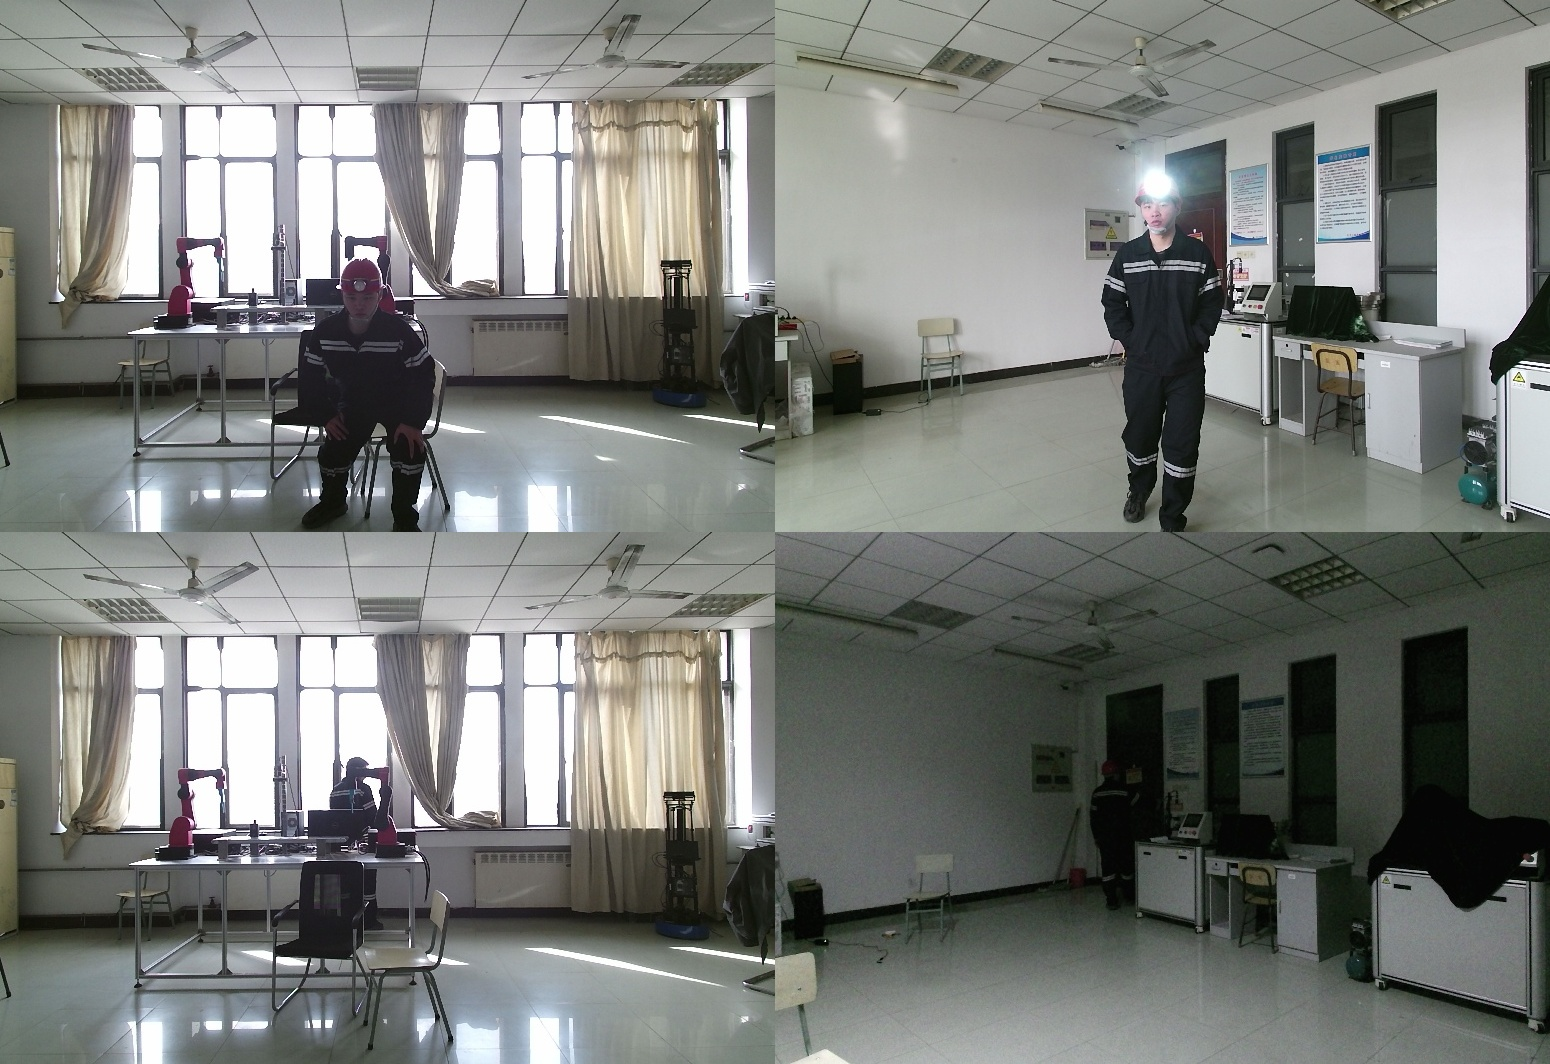person: (1096, 175, 1230, 532), (301, 259, 453, 532), (1083, 762, 1156, 918), (332, 758, 392, 935)
